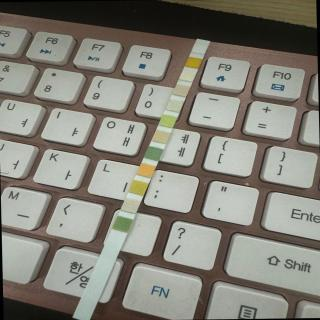mark: (115, 217, 130, 232), (131, 182, 146, 194), (124, 200, 138, 212), (138, 165, 152, 177), (146, 148, 160, 160), (152, 130, 166, 142), (160, 115, 174, 127), (168, 100, 182, 112), (174, 86, 188, 96), (186, 58, 200, 68), (180, 72, 193, 82), (192, 42, 204, 52)
